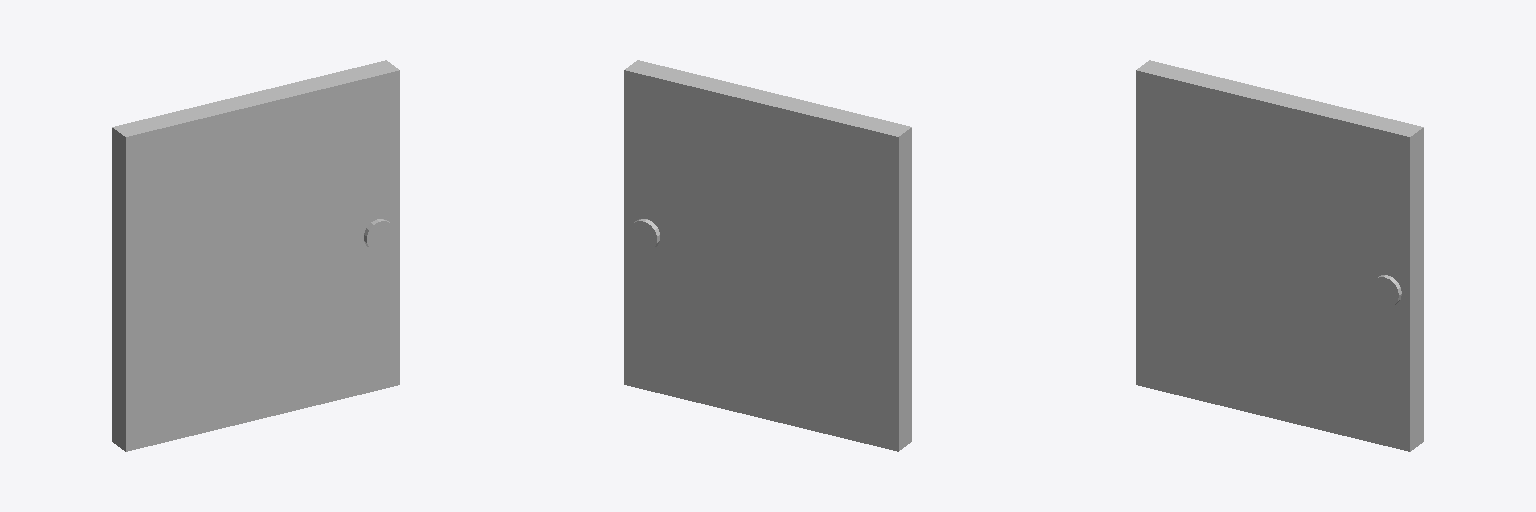
File: door.obj
The picture shows the model from 3 angles: view 1: azimuth 30°, elevation 25°; view 2: azimuth 150°, elevation 25°; view 3: azimuth 330°, elevation 25°; orthographic projection.
Parts seen in each view (by area): view 1: door_pCube2, door_pCylinder1; view 2: door_pCube2, door_pCylinder1; view 3: door_pCube2, door_pCylinder1.
Boxes of the visible parts, x1,y1,x2,y2 form: door_pCube2: [112, 60, 399, 451]; door_pCylinder1: [364, 219, 394, 250]; door_pCube2: [624, 60, 911, 451]; door_pCylinder1: [629, 219, 659, 250]; door_pCube2: [1136, 60, 1423, 451]; door_pCylinder1: [1371, 275, 1401, 306].
Bounding box in the file's own units: 10.29 × 11.28 × 1.3.